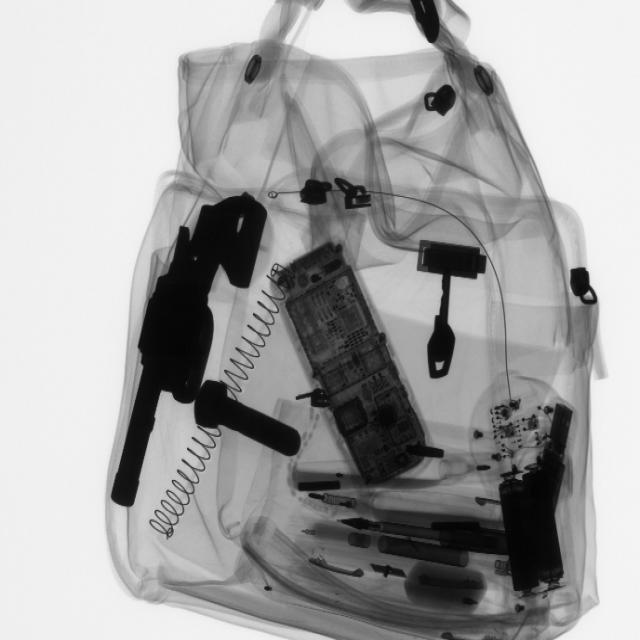GUN: (110, 184, 257, 515)
